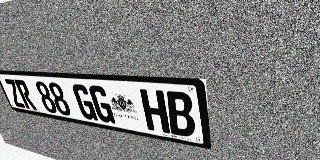8: (47, 82, 72, 116), (34, 81, 58, 114)
B: (164, 91, 196, 138)
G: (88, 85, 116, 124), (71, 84, 98, 121)
H: (139, 89, 170, 134)
R: (14, 79, 37, 110)
Z: (3, 79, 26, 108)
